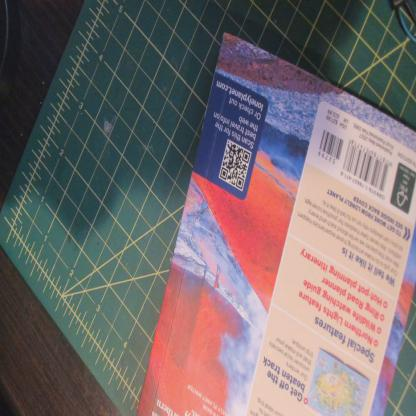barcode: (339, 137, 396, 192), (316, 128, 346, 163)
qr: (216, 138, 257, 191)
